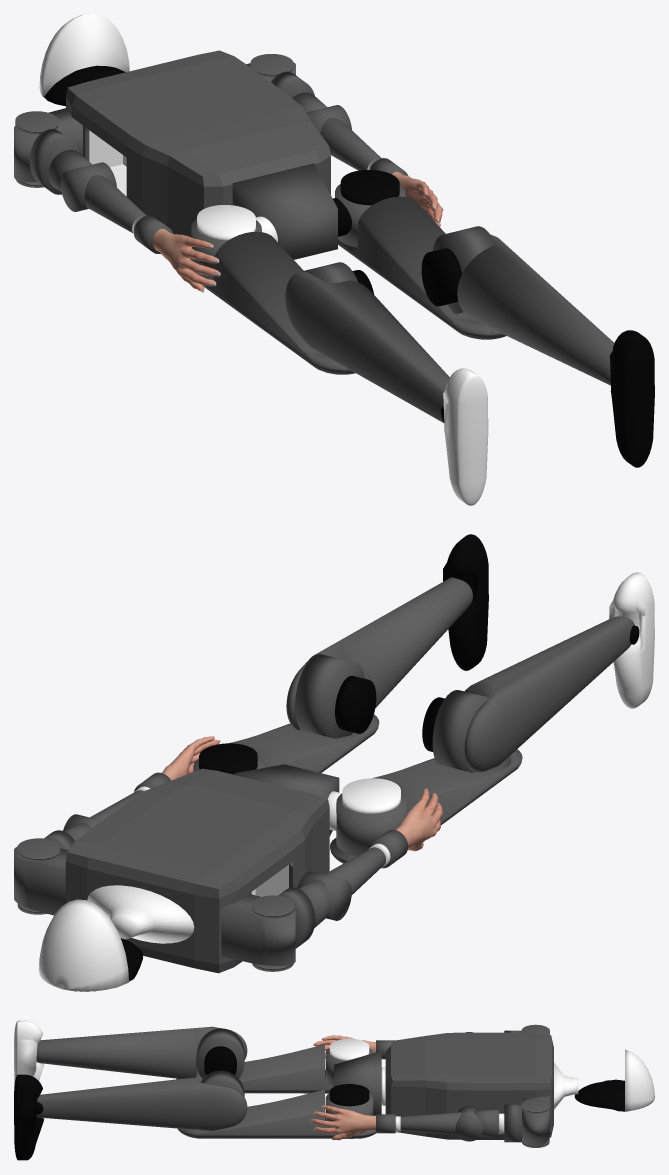
Rendered from robotG1off.fbx.
3 views of the same model, one above another, from view 1: azimuth 30°, elevation 25°; view 2: azimuth 150°, elevation 25°; view 3: azimuth 270°, elevation 25° (orthographic). The views are drawn at different scales.
Visible parts, largest first — view 1: Oberkoerper, Sphere.002, Sphere.005, Sphere.001, Sphere.006, Cube, Sphere.004, Sphere.003, Sphere.008, Femhand.001, Cylinder.008, Cylinder.022 (+17 smaller); view 2: Oberkoerper, Sphere.002, Sphere.005, Sphere.008, Sphere.001, Sphere.003, Cylinder.014, Sphere.004, Cylinder.015, Sphere.006, Cylinder.009, Cylinder.025 (+15 smaller); view 3: Oberkoerper, Sphere.005, Sphere.002, Sphere.006, Sphere.001, Sphere.004, Cube, Sphere.003, Femhand.002, Sphere.008, Sphere.007, Cylinder.004 (+15 smaller).
Boxes of the visible parts, x1,y1,x2,y2 form: Oberkoerper: [66, 50, 330, 237]; Sphere.002: [285, 271, 449, 422]; Sphere.005: [457, 234, 614, 385]; Sphere.001: [190, 231, 355, 374]; Sphere.006: [338, 196, 506, 339]; Cube: [232, 163, 337, 259]; Sphere.004: [609, 330, 654, 467]; Sphere.003: [443, 368, 488, 505]; Sphere.008: [39, 14, 129, 97]; Femhand.001: [152, 229, 220, 292]; Cylinder.008: [421, 248, 461, 306]; Cylinder.022: [84, 175, 146, 232]; Oberkoerper: [65, 768, 329, 973]; Sphere.002: [464, 616, 634, 772]; Sphere.005: [286, 577, 472, 730]; Sphere.008: [38, 899, 128, 991]; Sphere.001: [330, 749, 522, 863]; Sphere.003: [609, 572, 654, 708]; Cylinder.014: [87, 885, 194, 943]; Sphere.004: [443, 534, 488, 670]; Cylinder.015: [221, 894, 295, 966]; Sphere.006: [229, 714, 379, 772]; Cylinder.009: [295, 654, 364, 738]; Cylinder.025: [14, 847, 68, 915]; Oberkoerper: [385, 1032, 553, 1139]; Sphere.005: [36, 1077, 247, 1131]; Sphere.002: [36, 1026, 247, 1078]; Sphere.006: [178, 1089, 375, 1138]; Sphere.001: [176, 1044, 333, 1093]; Sphere.004: [14, 1074, 44, 1160]; Cube: [334, 1051, 381, 1115]; Sphere.003: [14, 1020, 44, 1085]; Femhand.002: [310, 1105, 375, 1140]; Sphere.008: [625, 1049, 654, 1111]; Sphere.007: [574, 1079, 630, 1111]; Cylinder.004: [197, 1028, 244, 1078].
Size of the model in its own units: 7.62 by 3.49 by 23.44.
